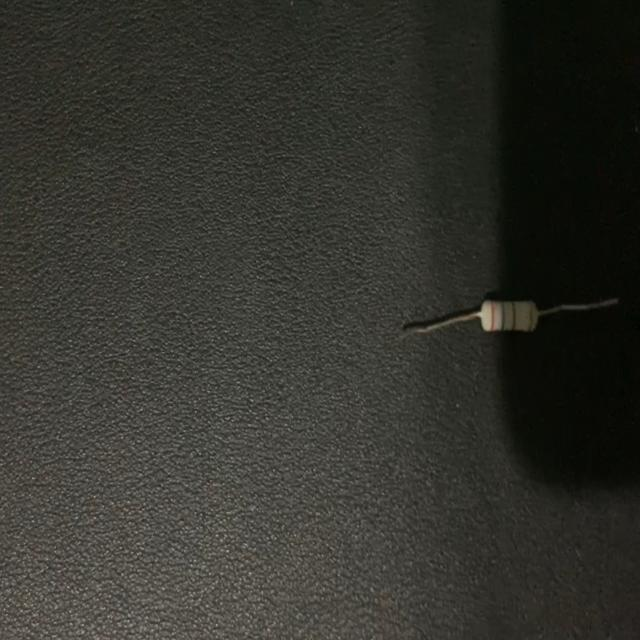resistor: (397, 267, 628, 361)
